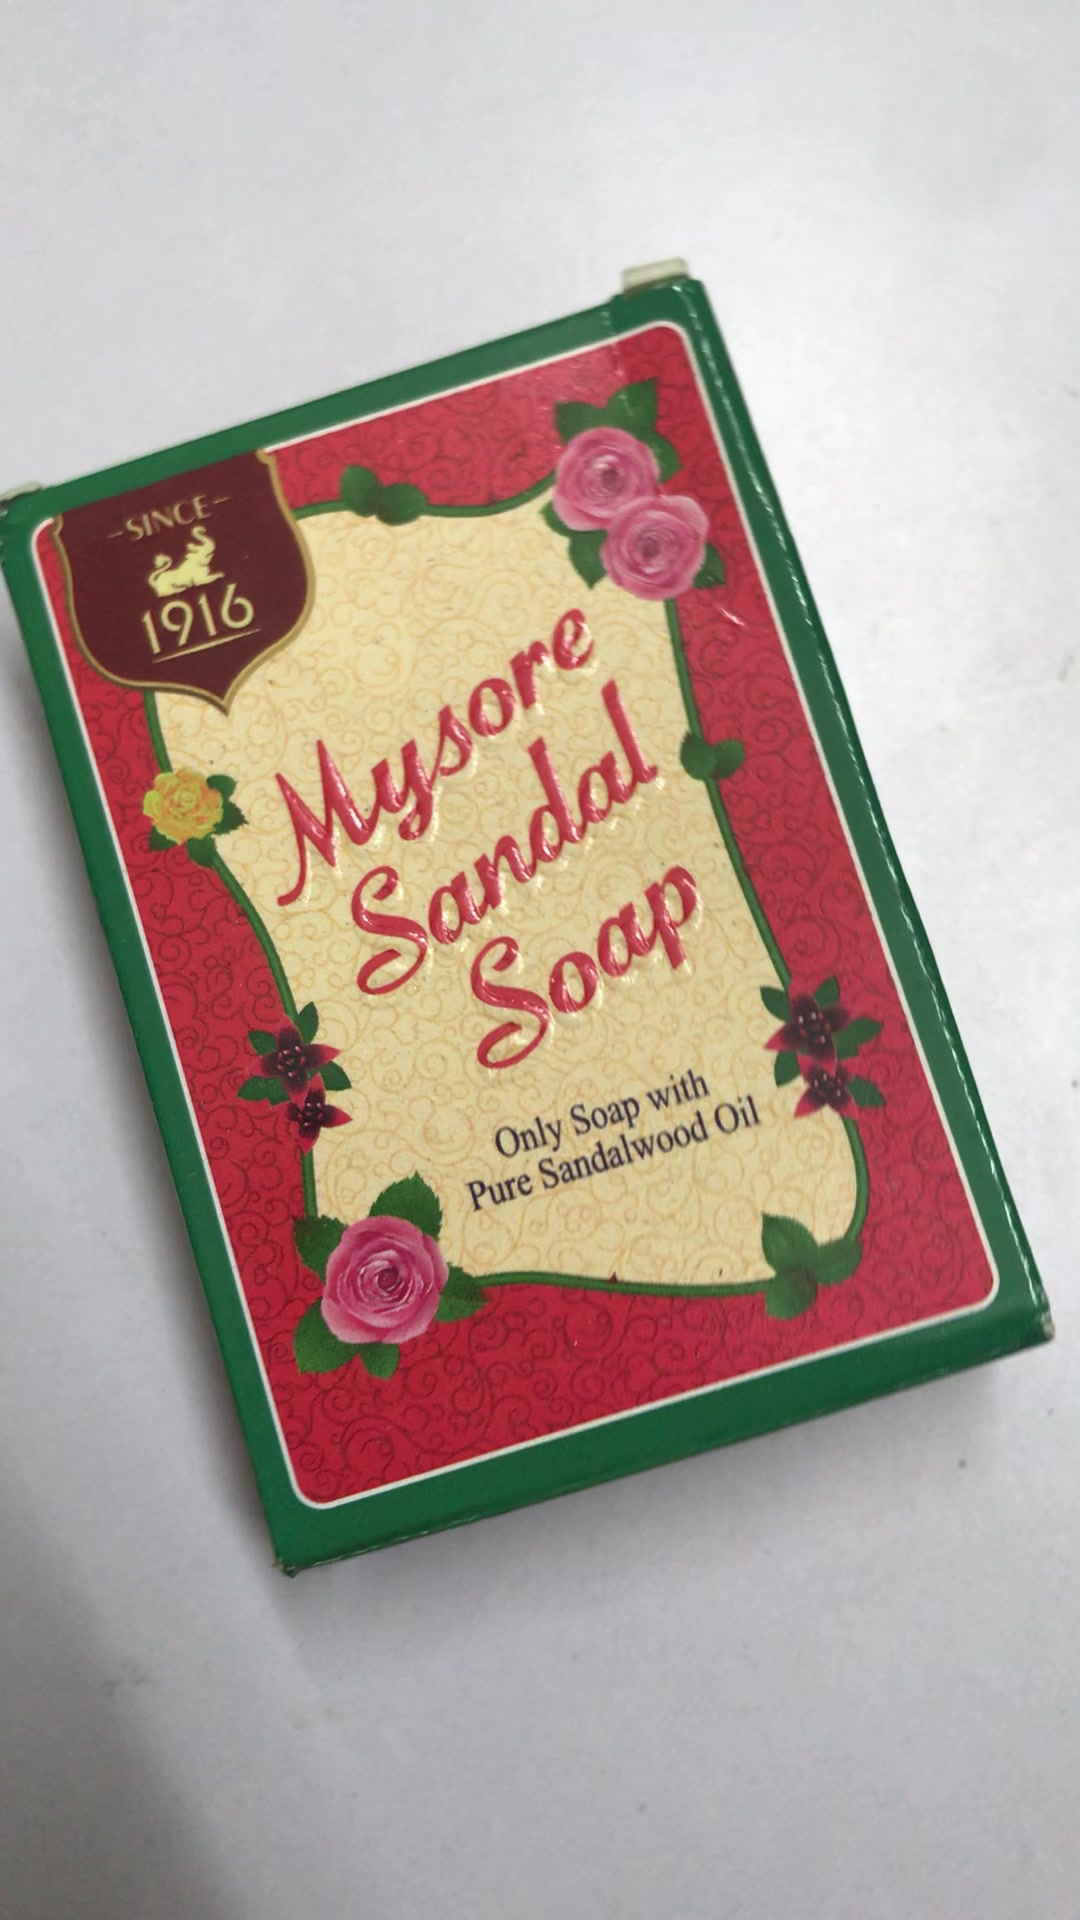mysore sandal soap: (1, 256, 1054, 1578)
